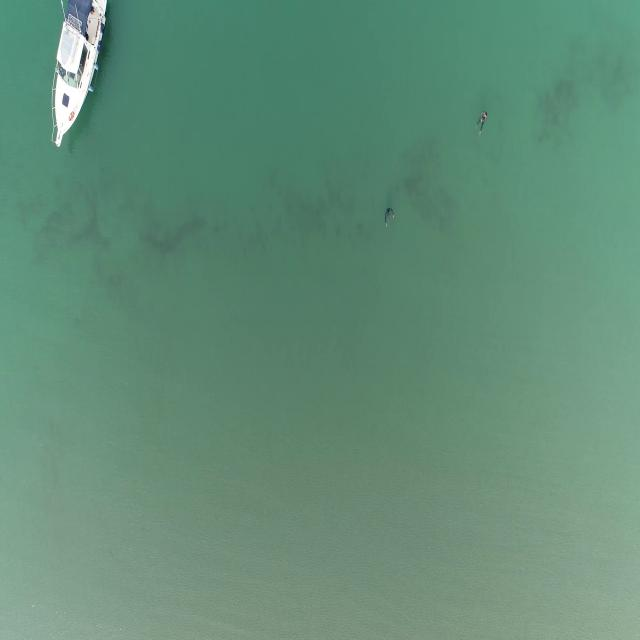boat: (46, 1, 107, 151)
person: (381, 208, 395, 231), (477, 113, 488, 141)
